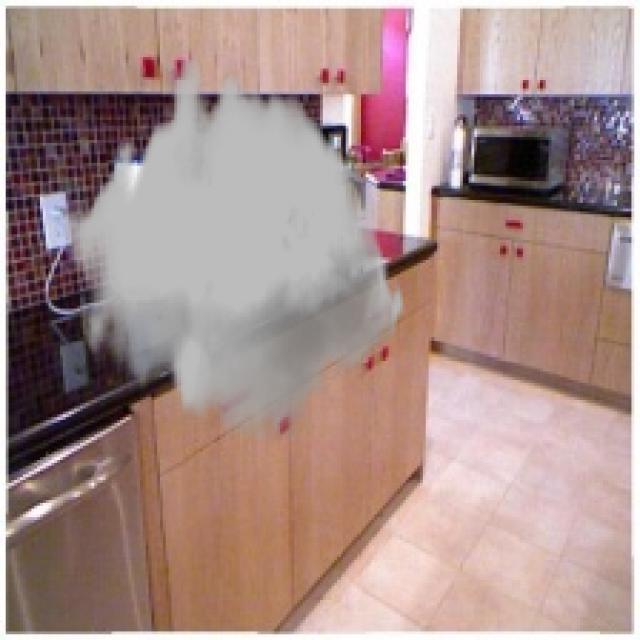Smoke: (63, 60, 406, 440)
